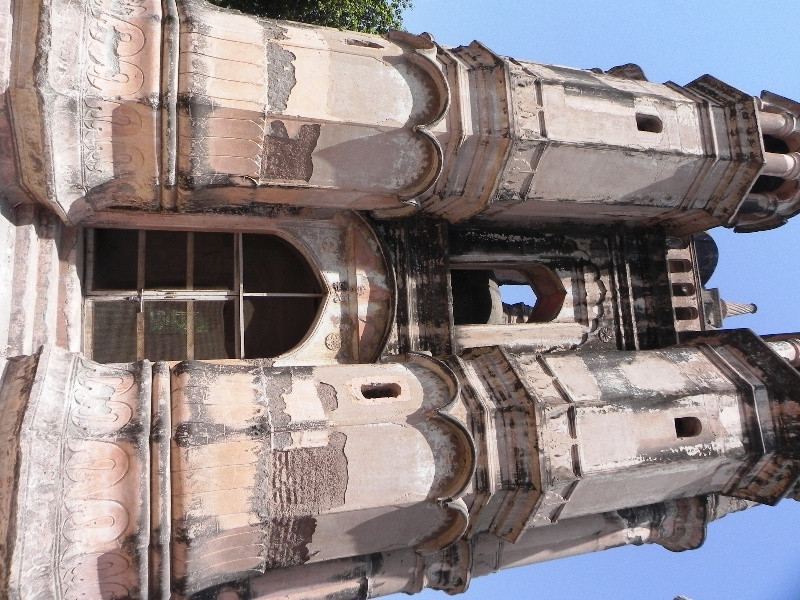Exposed Bricks: (270, 450, 292, 567)
Spalling: (257, 13, 298, 112), (263, 115, 321, 184), (315, 429, 351, 511), (312, 378, 341, 419)
